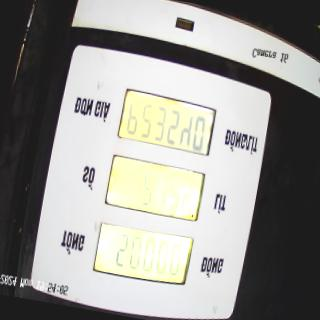screen: (90, 83, 220, 295)
